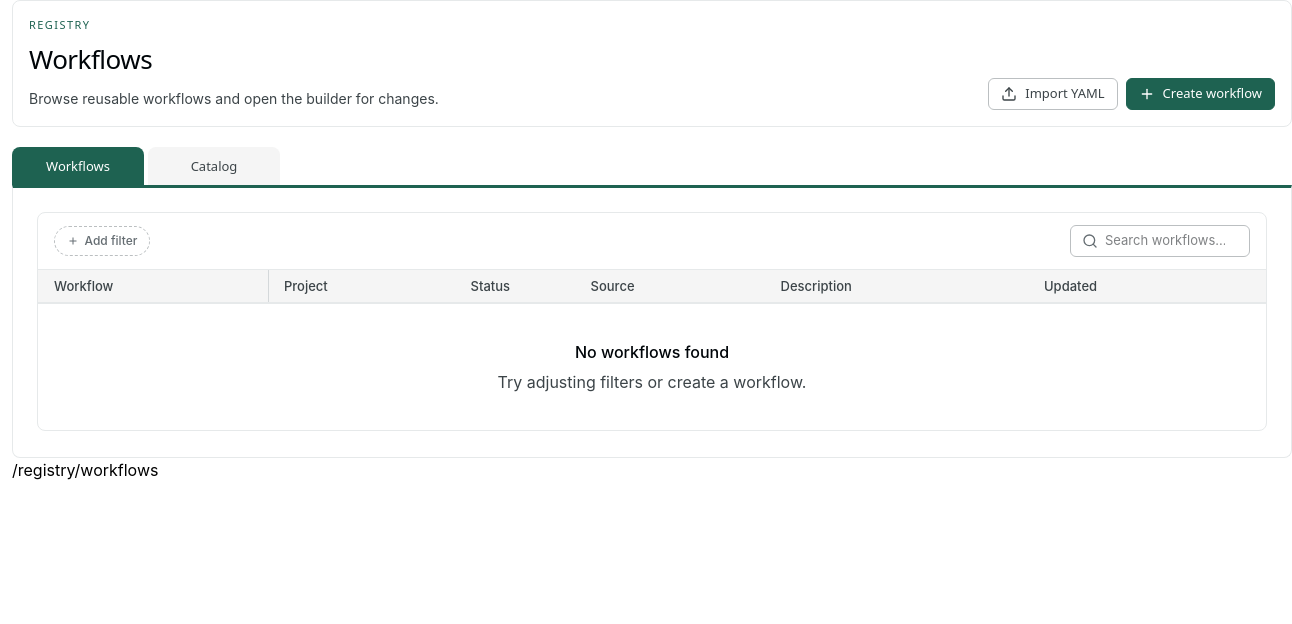
Test: the Catalog tab browses templates in the page, its search spanning the results
Step 1. Click the tab "Catalog" → (214, 166), box [148,147,280,185]
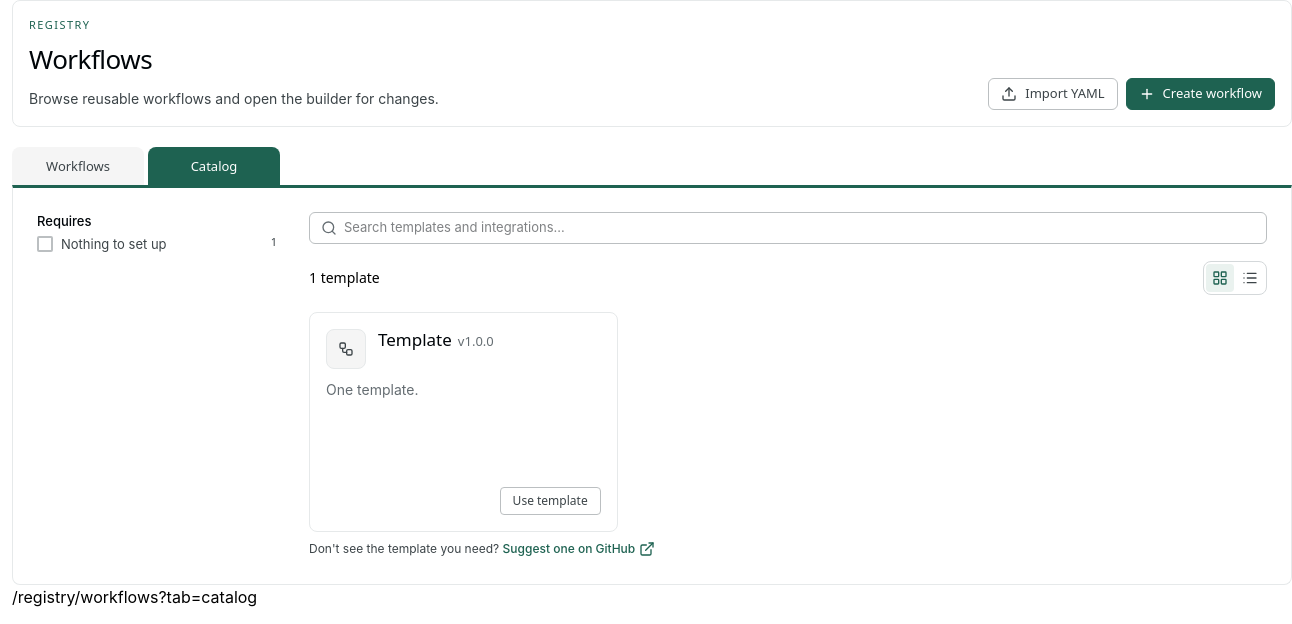
Expected: the search field labelled "Search templates and integrations" is shown, [344,218,1255,238]
Expected: the text with test id "location" shows "tab=catalog", [12,587,257,607]
